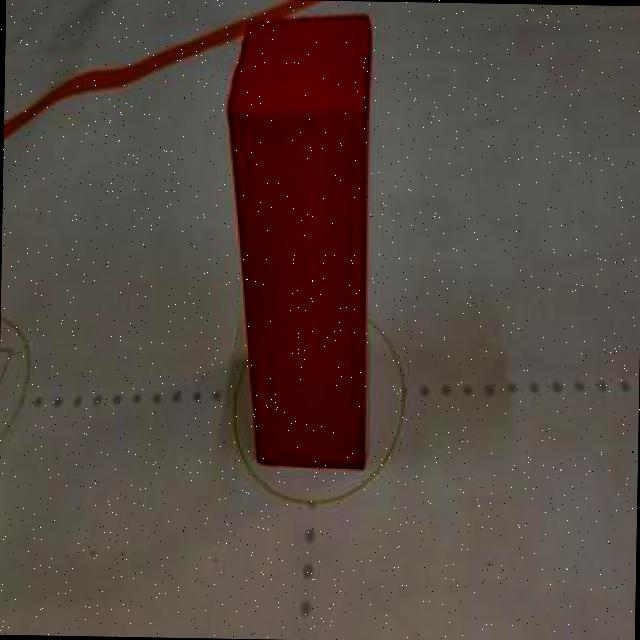redbox: (220, 7, 376, 466)
